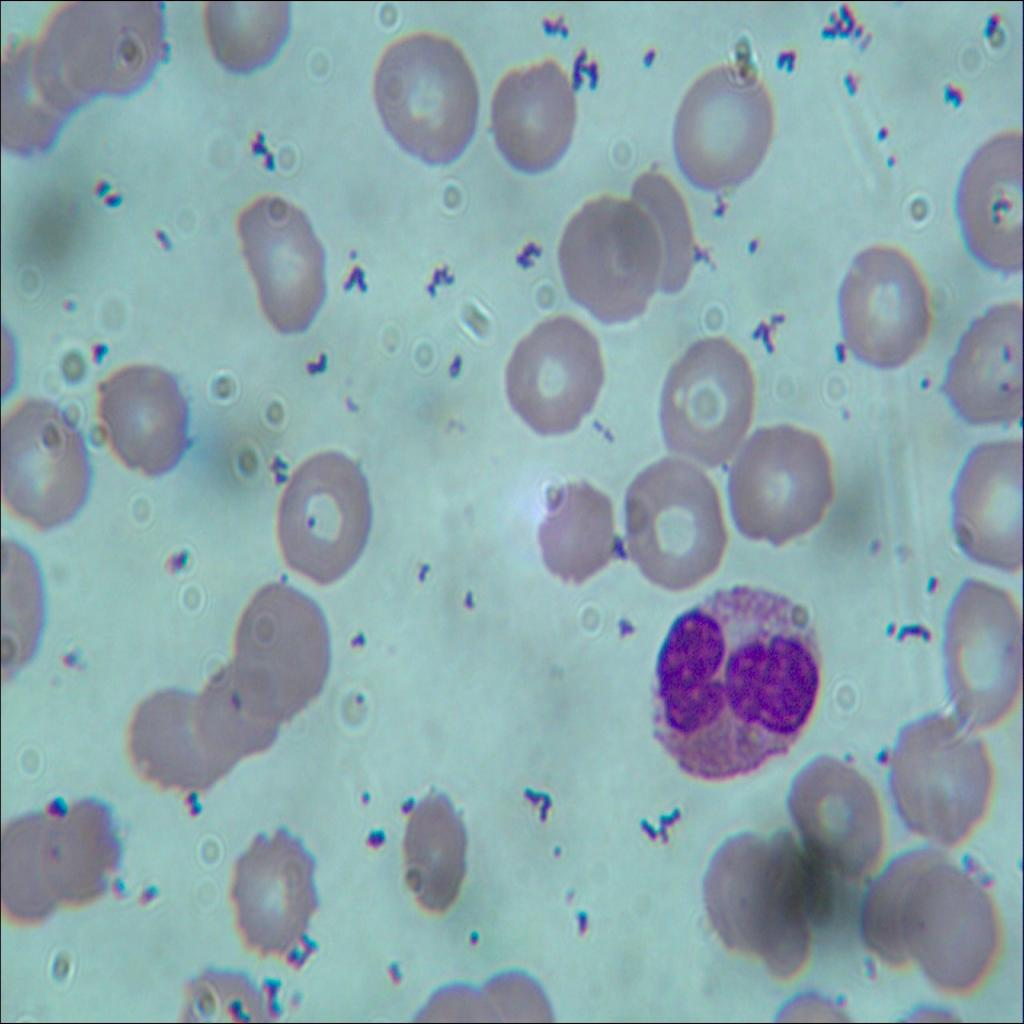Eosinofil: (651, 580, 821, 784)
Eritrosit: (256, 434, 386, 589), (698, 828, 818, 984), (366, 28, 482, 174), (494, 308, 611, 450), (723, 414, 835, 559), (231, 188, 333, 343), (658, 327, 758, 477), (619, 454, 724, 596), (228, 577, 334, 717), (558, 192, 666, 329), (666, 64, 778, 192), (0, 388, 89, 545), (91, 367, 201, 494), (888, 718, 998, 844), (783, 749, 881, 888), (123, 677, 228, 801), (938, 578, 1024, 728), (902, 874, 1006, 998), (229, 824, 321, 962), (834, 239, 930, 371), (483, 55, 579, 178), (939, 438, 1023, 575), (614, 159, 695, 298), (941, 292, 1023, 428), (530, 468, 620, 589), (858, 838, 941, 968), (951, 128, 1023, 277), (402, 782, 475, 917), (46, 794, 128, 908), (195, 664, 283, 762), (0, 810, 63, 924)
Neutrofil: (644, 582, 828, 790)
Platelet: (462, 918, 491, 964), (633, 31, 659, 81), (569, 900, 601, 936), (354, 778, 383, 810), (916, 361, 934, 404), (734, 230, 759, 260), (870, 114, 893, 142), (884, 150, 902, 177)
